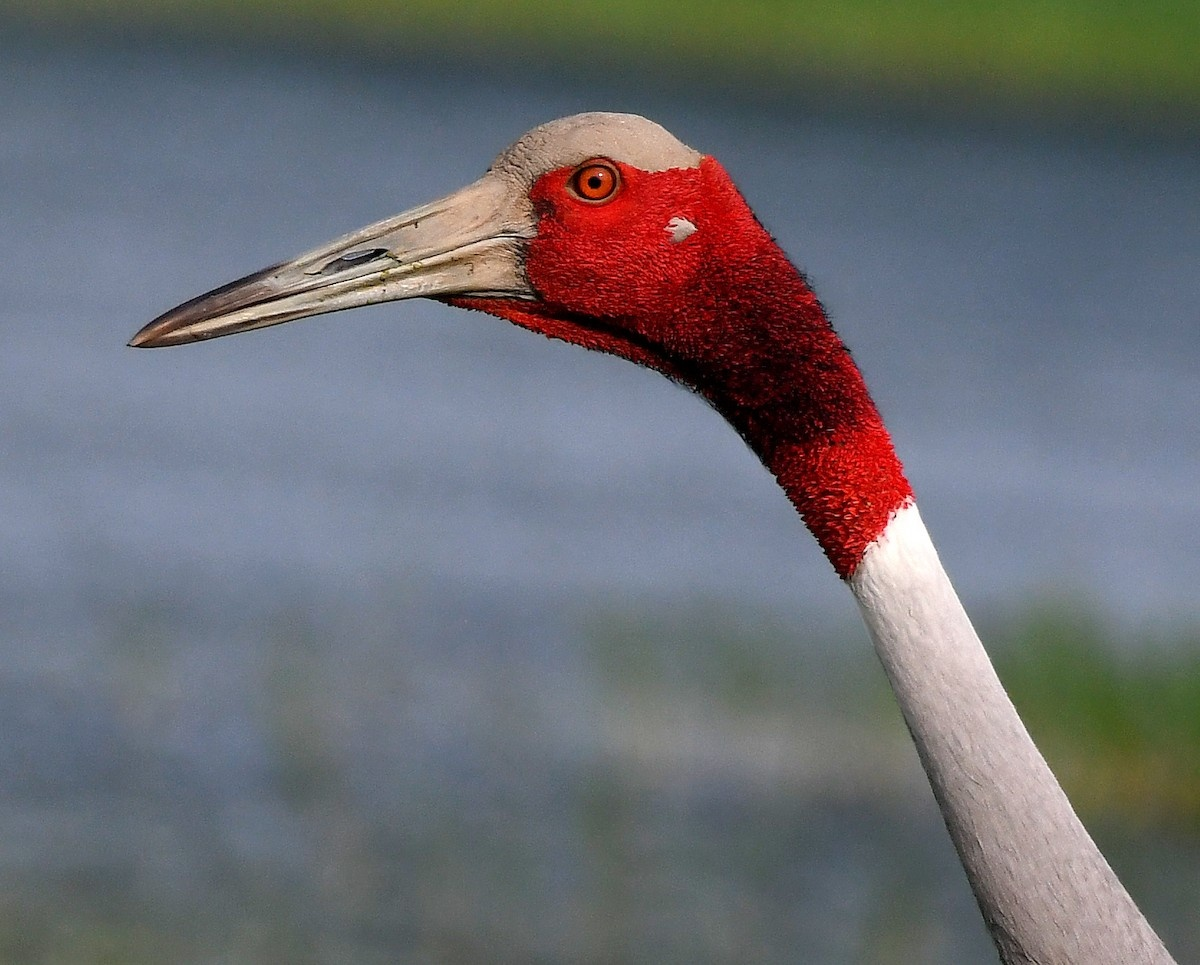crane: (124, 103, 1200, 965)
